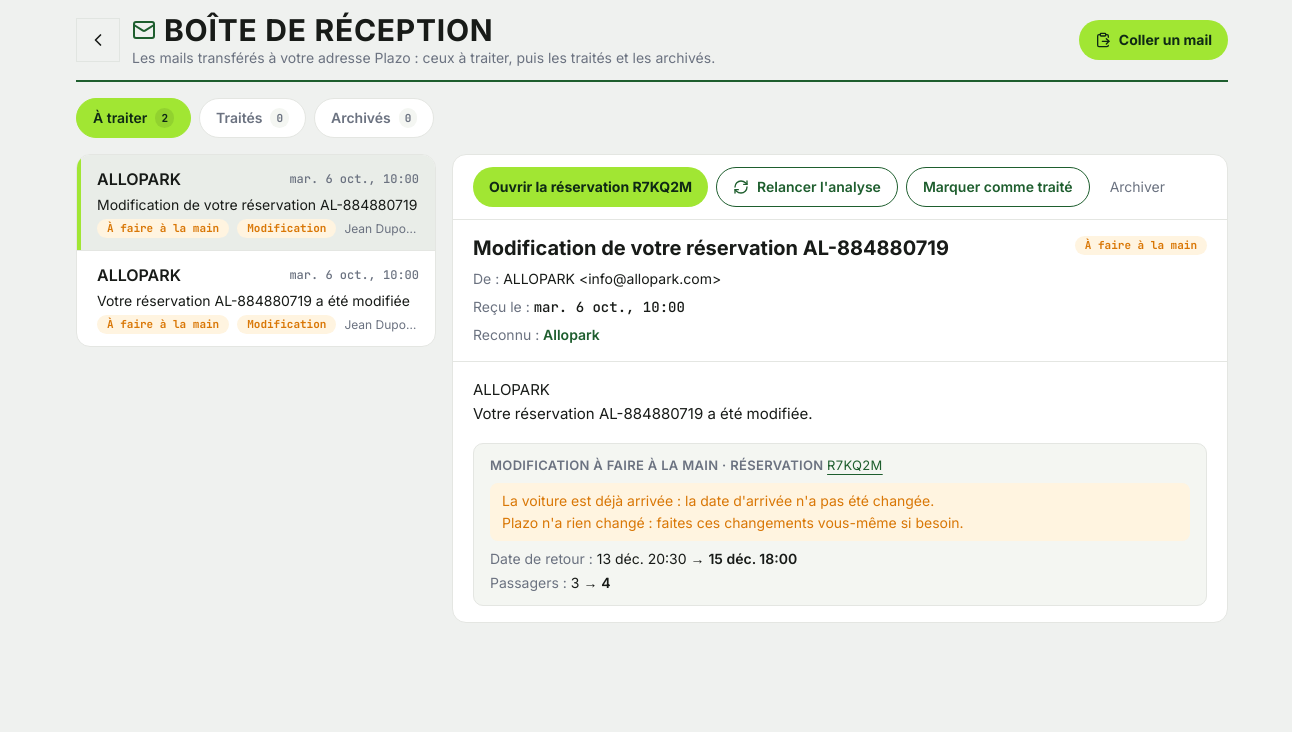
Scenario: InboundEmailsPage (M-A « Boîte de réception », T-A « Deux gestes ») › 10/10/2026 (« C'est une modification ») : une modification Allopark › à faire à la main : la raison en français, les changements, et la réservation à ouvrir à la place de « Compléter »
Expected: the heading "Modification à faire à la main · réservation R7KQ2M" is shown, [490,457,883,473]
Expected: the 1st element with test id "inbound-status" reads "À faire à la main", [107,221,219,235]
Click the 6th button. click: x=256, y=298
box: [77,251,435,346]
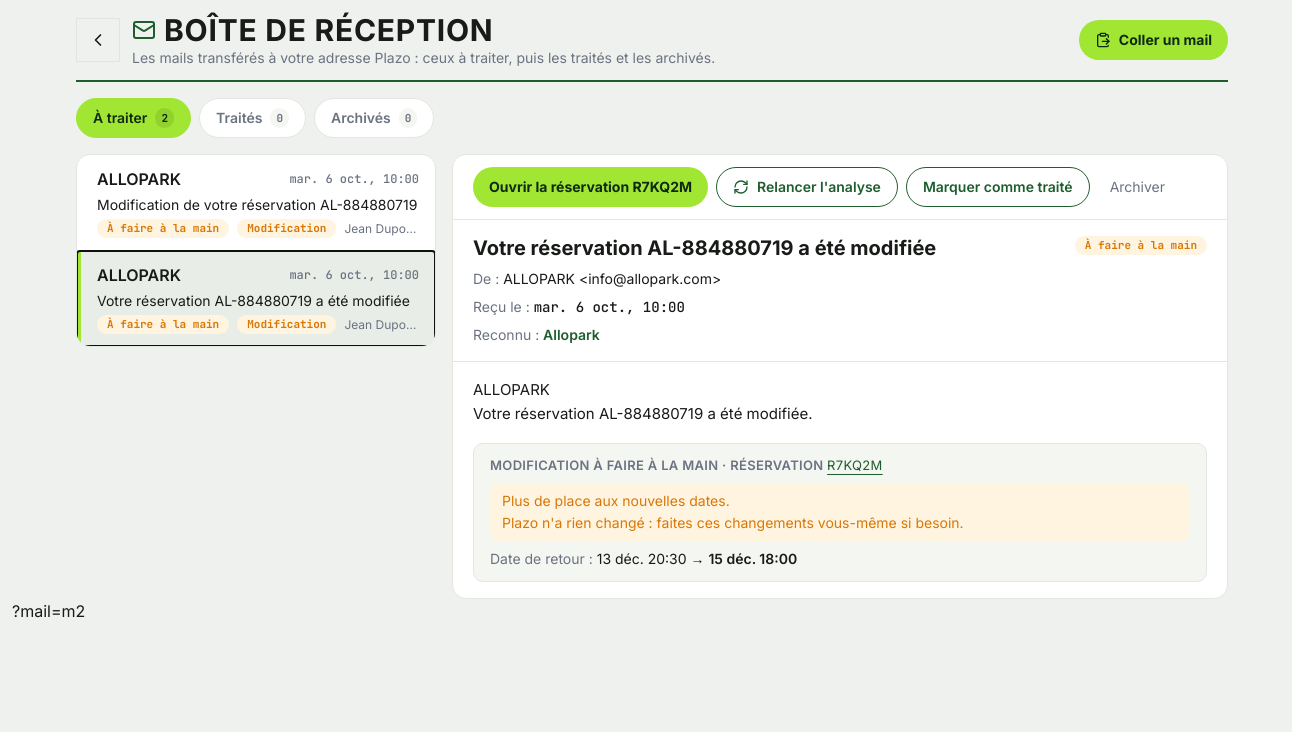
Result: the element with test id "inbound-change-reason" shows "Plus de place aux nouvelles dates." at [502,492,730,509]
